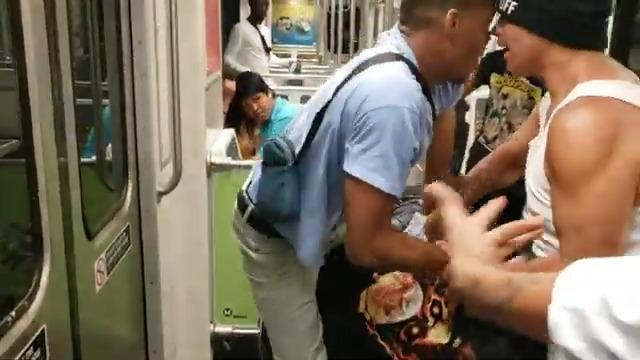non-violence: (454, 49, 548, 223), (222, 73, 305, 153), (223, 0, 274, 83)
violence: (230, 0, 640, 350)
